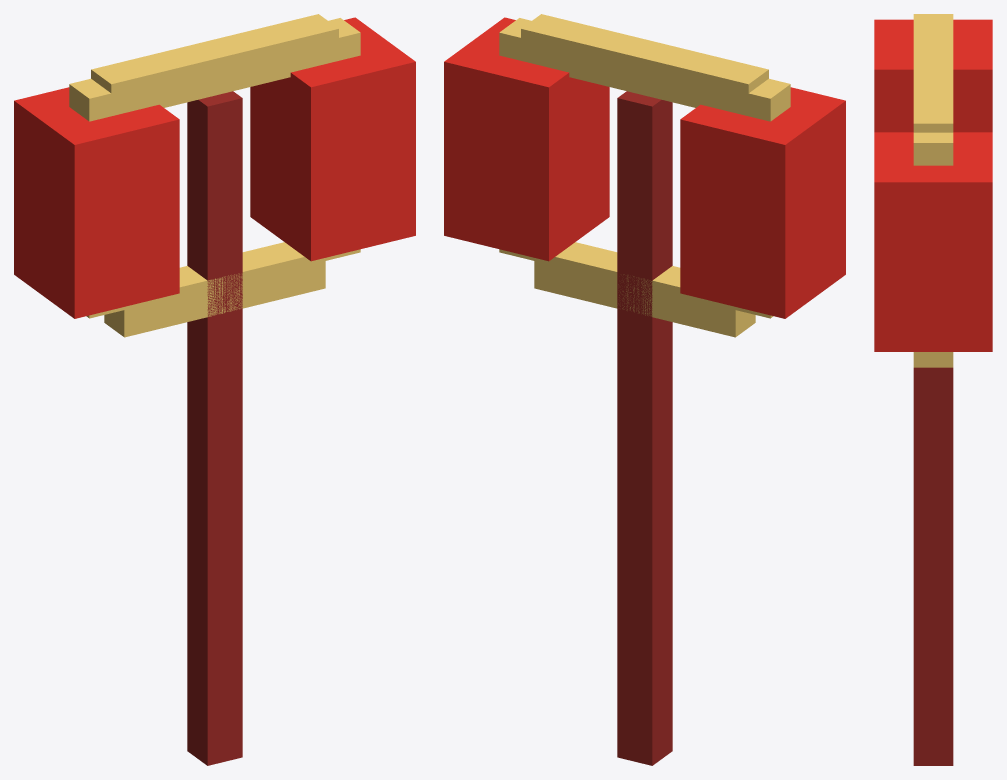
The model's file is voxel-beijing-lantern.gltf.
3 views of the same model, side by side, from view 1: azimuth 30°, elevation 25°; view 2: azimuth 150°, elevation 25°; view 3: azimuth 270°, elevation 25° (orthographic). The views are drawn at different scales.
Bounding box in the file's own units: 0.78 × 1.54 × 0.24.
